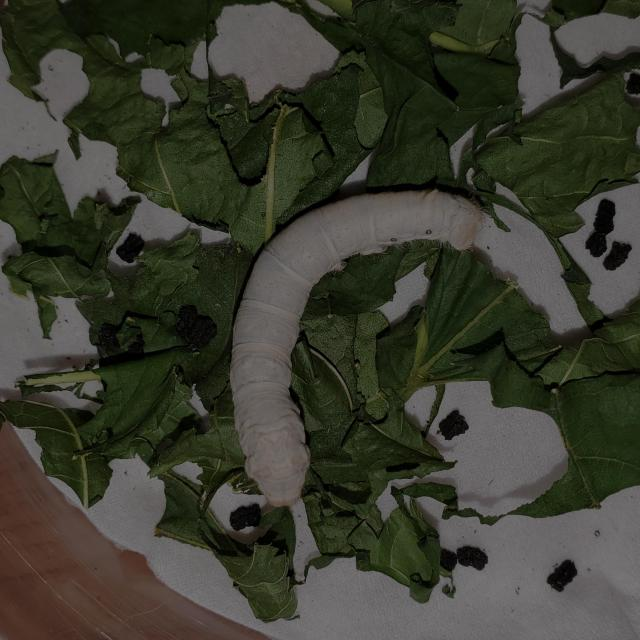Healthy: (214, 161, 506, 546)
